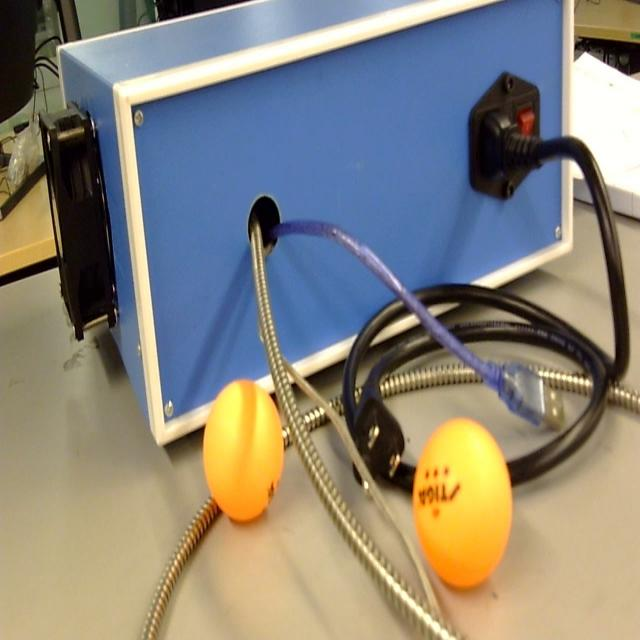ball: (412, 416, 514, 592), (202, 377, 286, 528)
